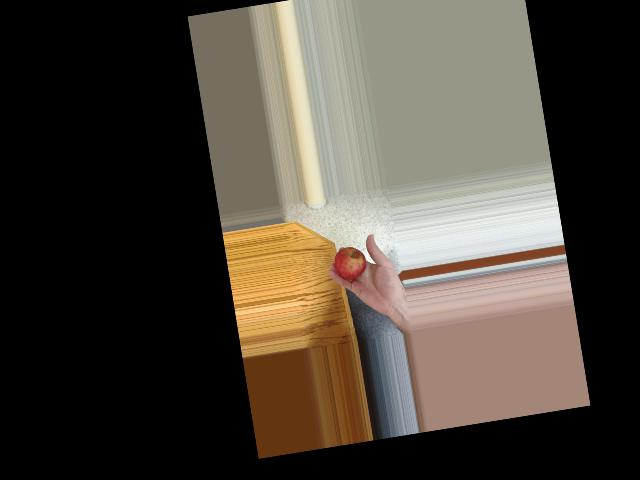apple: (332, 243, 372, 286)
